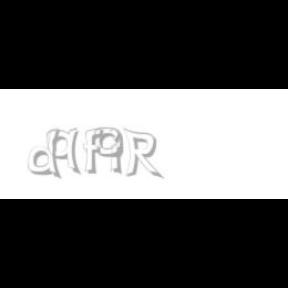R: (123, 128, 161, 180)
d: (29, 128, 66, 180)
f: (83, 128, 107, 174)
i: (109, 128, 125, 176)
o: (94, 128, 124, 158)
q: (46, 128, 82, 176)
